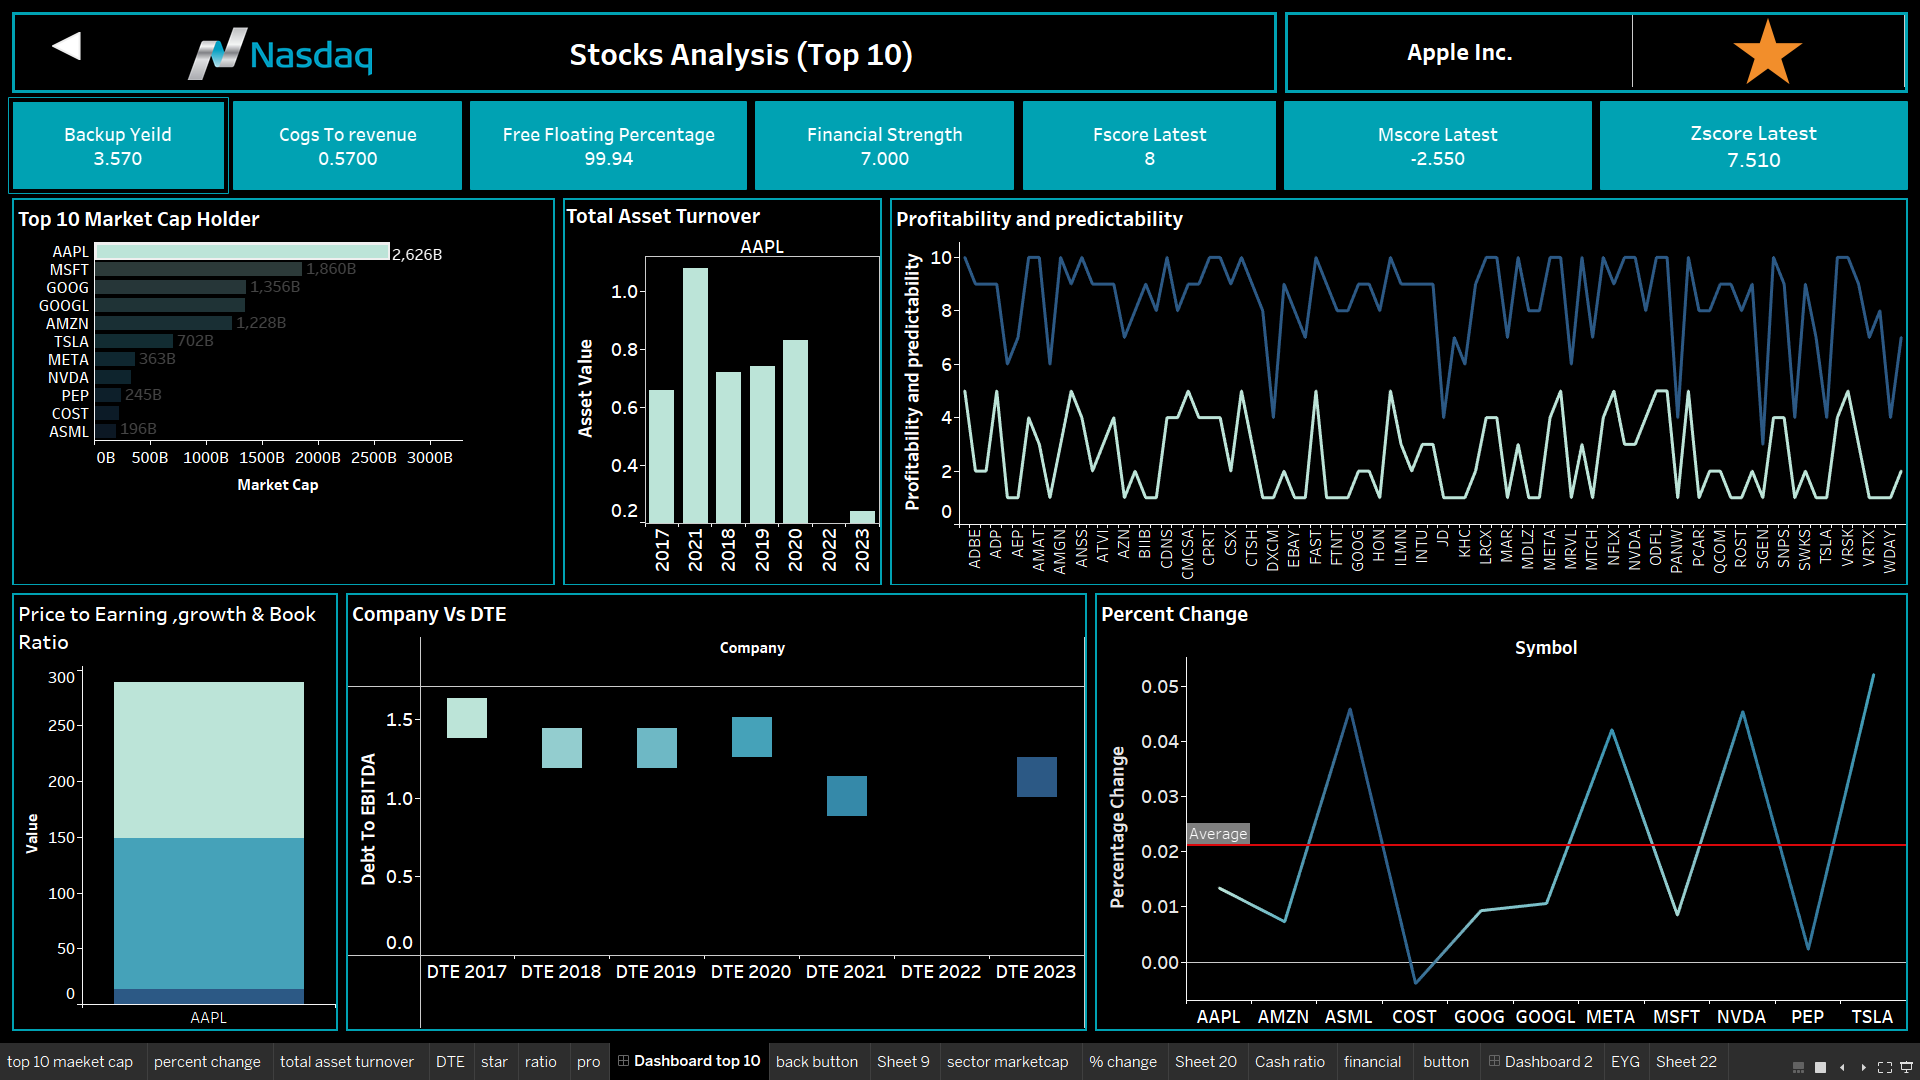

The page's visual inventory and layout, read from the dashboard file:
{"tool":"tableau","page":{"name":"Dashboard top 10","canvas":[1000,1000],"units":"permille","ordinal":1},"visuals":[{"type":"text","box":[4.8,9.4,661.9,84.5]},{"type":"worksheet","title":"star","mark":"Shape","rows":["Name"],"box":[666.7,9.4,328.5,84.5]},{"type":"image","param":"C:/Users/sanik/OneDrive/Desktop/DHV/internals/e4cd152ba0a0ab4bfecad25a341a46b7.j","box":[13.4,25.9,264.3,50.5]},{"type":"worksheet","title":"back button","mark":"Shape","rows":["Name"],"box":[10.9,30.6,89.9,109.3]},{"type":"worksheet","title":"finance strength","mark":"Automatic","box":[4.8,93.9,141.7,92.7]},{"type":"worksheet","title":"f_score","mark":"Automatic","box":[146.6,93.9,129.8,92.7]},{"type":"worksheet","title":"mscore","mark":"Automatic","box":[276.3,93.9,123.1,92.7]},{"type":"worksheet","title":"price latest (2)","mark":"Automatic","box":[399.5,93.9,108.7,92.7]},{"type":"worksheet","title":"Free float percentage","mark":"Automatic","box":[508.2,93.9,158.6,92.7]},{"type":"worksheet","title":"cogs to rev","mark":"Automatic","box":[666.8,93.9,156.9,92.7]},{"type":"worksheet","title":"backup yeild","mark":"Automatic","box":[823.7,93.9,171.5,92.7]},{"type":"worksheet","title":"top 10 maeket cap","mark":"Automatic","rows":["Symbol"],"cols":["Market Cap"],"box":[4.8,186.6,286.6,378.2]},{"type":"worksheet","title":"total asset turnover","mark":"Bar","cols":["symbol"],"box":[291.4,186.6,207,378.2]},{"type":"worksheet","title":"pro","mark":"Line","cols":["symbol"],"box":[498.4,186.6,496.7,378.2]},{"type":"worksheet","title":"ratio ","mark":"Bar","cols":["Symbol"],"box":[4.8,564.8,173.6,425.8]},{"type":"worksheet","title":"DTE","mark":"Square","cols":["company"],"box":[178.5,564.8,389.4,425.8]},{"type":"worksheet","title":"percent change","mark":"Line","rows":["Percentage Change"],"cols":["Symbol"],"box":[567.9,564.8,427.3,425.8]}]}

Visuals, with their boxes on the dashboard's canvas, which has no fixed pixel size, in thousandths of its width and height (x1, y1, x2, y2). These are canvas units, not pixel positions in the 1920x1080 screenshot, which may show the page scaled, cropped or inside an application window:
text: 5:9:667:94
"star" worksheet (Shape marks): 667:9:995:94
image: 13:26:278:76
"back button" worksheet (Shape marks): 11:31:101:140
"finance strength" worksheet: 5:94:146:187
"f_score" worksheet: 147:94:276:187
"mscore" worksheet: 276:94:399:187
"price latest (2)" worksheet: 400:94:508:187
"Free float percentage" worksheet: 508:94:667:187
"cogs to rev" worksheet: 667:94:824:187
"backup yeild" worksheet: 824:94:995:187
"top 10 maeket cap" worksheet: 5:187:291:565
"total asset turnover" worksheet (Bar marks): 291:187:498:565
"pro" worksheet (Line marks): 498:187:995:565
"ratio " worksheet (Bar marks): 5:565:178:991
"DTE" worksheet (Square marks): 178:565:568:991
"percent change" worksheet (Line marks): 568:565:995:991
